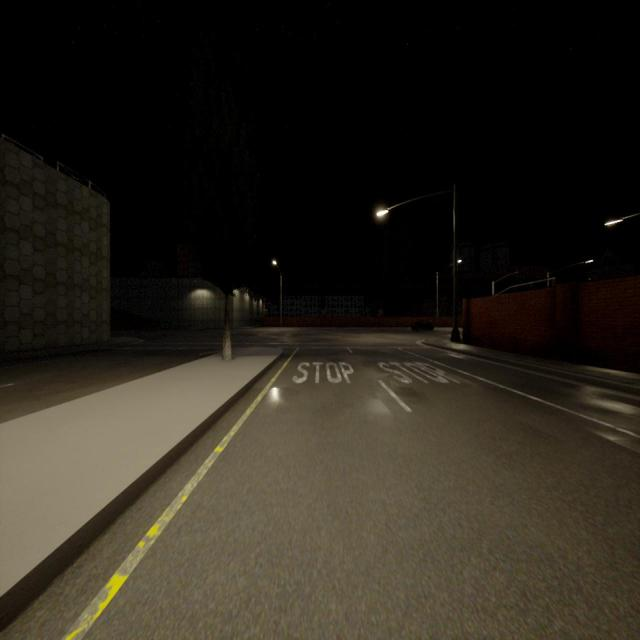Vehicle: (411, 321, 434, 331)
